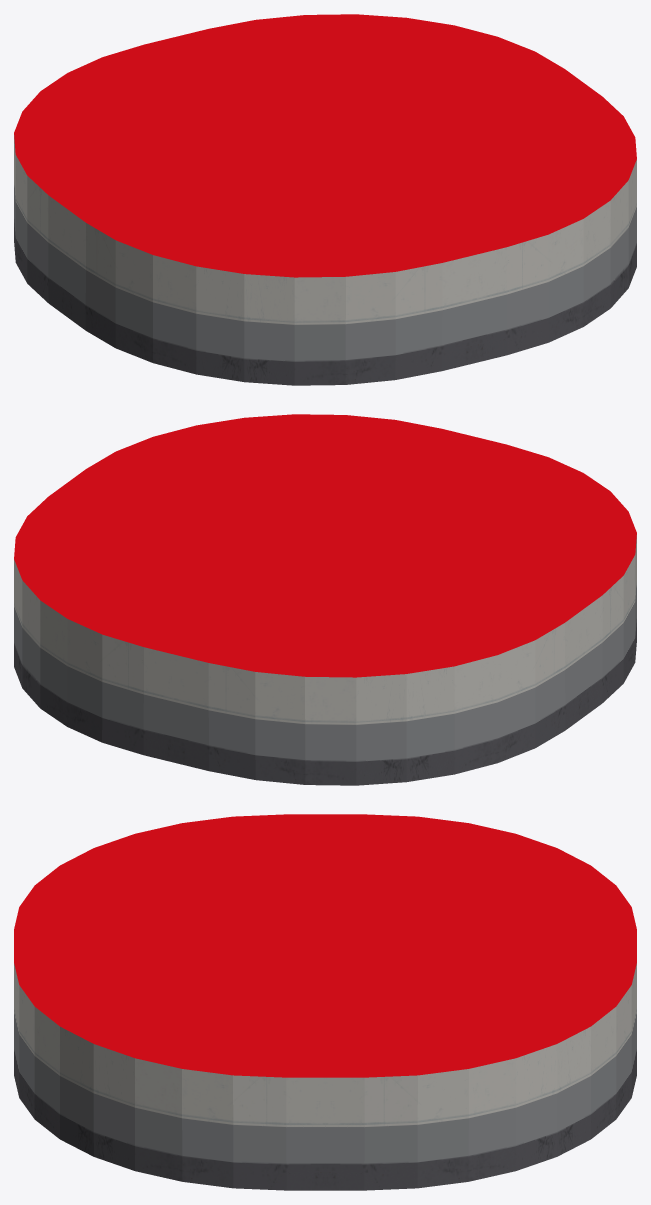
Rendered from G_Env_Arch_Floor_Metal_12_CircleOutter.fbx.
3 renders of one model, top to bottom at view 1: azimuth 30°, elevation 25°; view 2: azimuth 150°, elevation 25°; view 3: azimuth 270°, elevation 25°, orthographic. The views are drawn at different scales.
Visible parts, largest first — view 1: G_Env_Arch_Floor_Metal_12_CircleOutter; view 2: G_Env_Arch_Floor_Metal_12_CircleOutter; view 3: G_Env_Arch_Floor_Metal_12_CircleOutter.
Part boxes in pixels (x1=…): G_Env_Arch_Floor_Metal_12_CircleOutter: x1=14, y1=14, x2=636, y2=385; G_Env_Arch_Floor_Metal_12_CircleOutter: x1=14, y1=414, x2=636, y2=785; G_Env_Arch_Floor_Metal_12_CircleOutter: x1=14, y1=814, x2=636, y2=1190.
Size of the model in its own units: 500 by 100 by 500.
